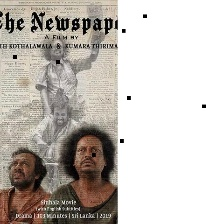news_paper: (0, 0, 117, 223)
